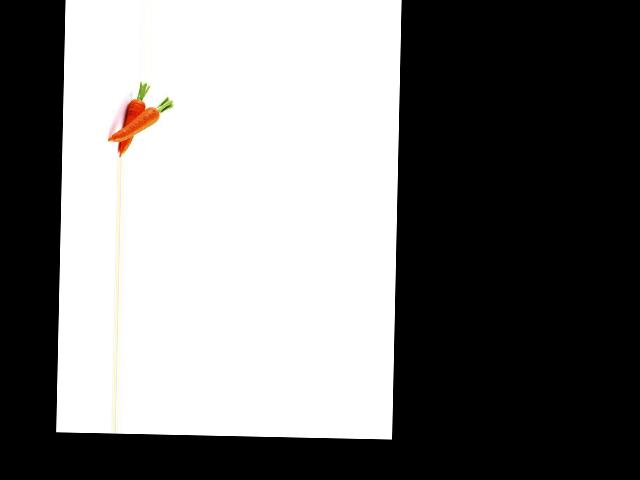carrot: (121, 89, 143, 156)
